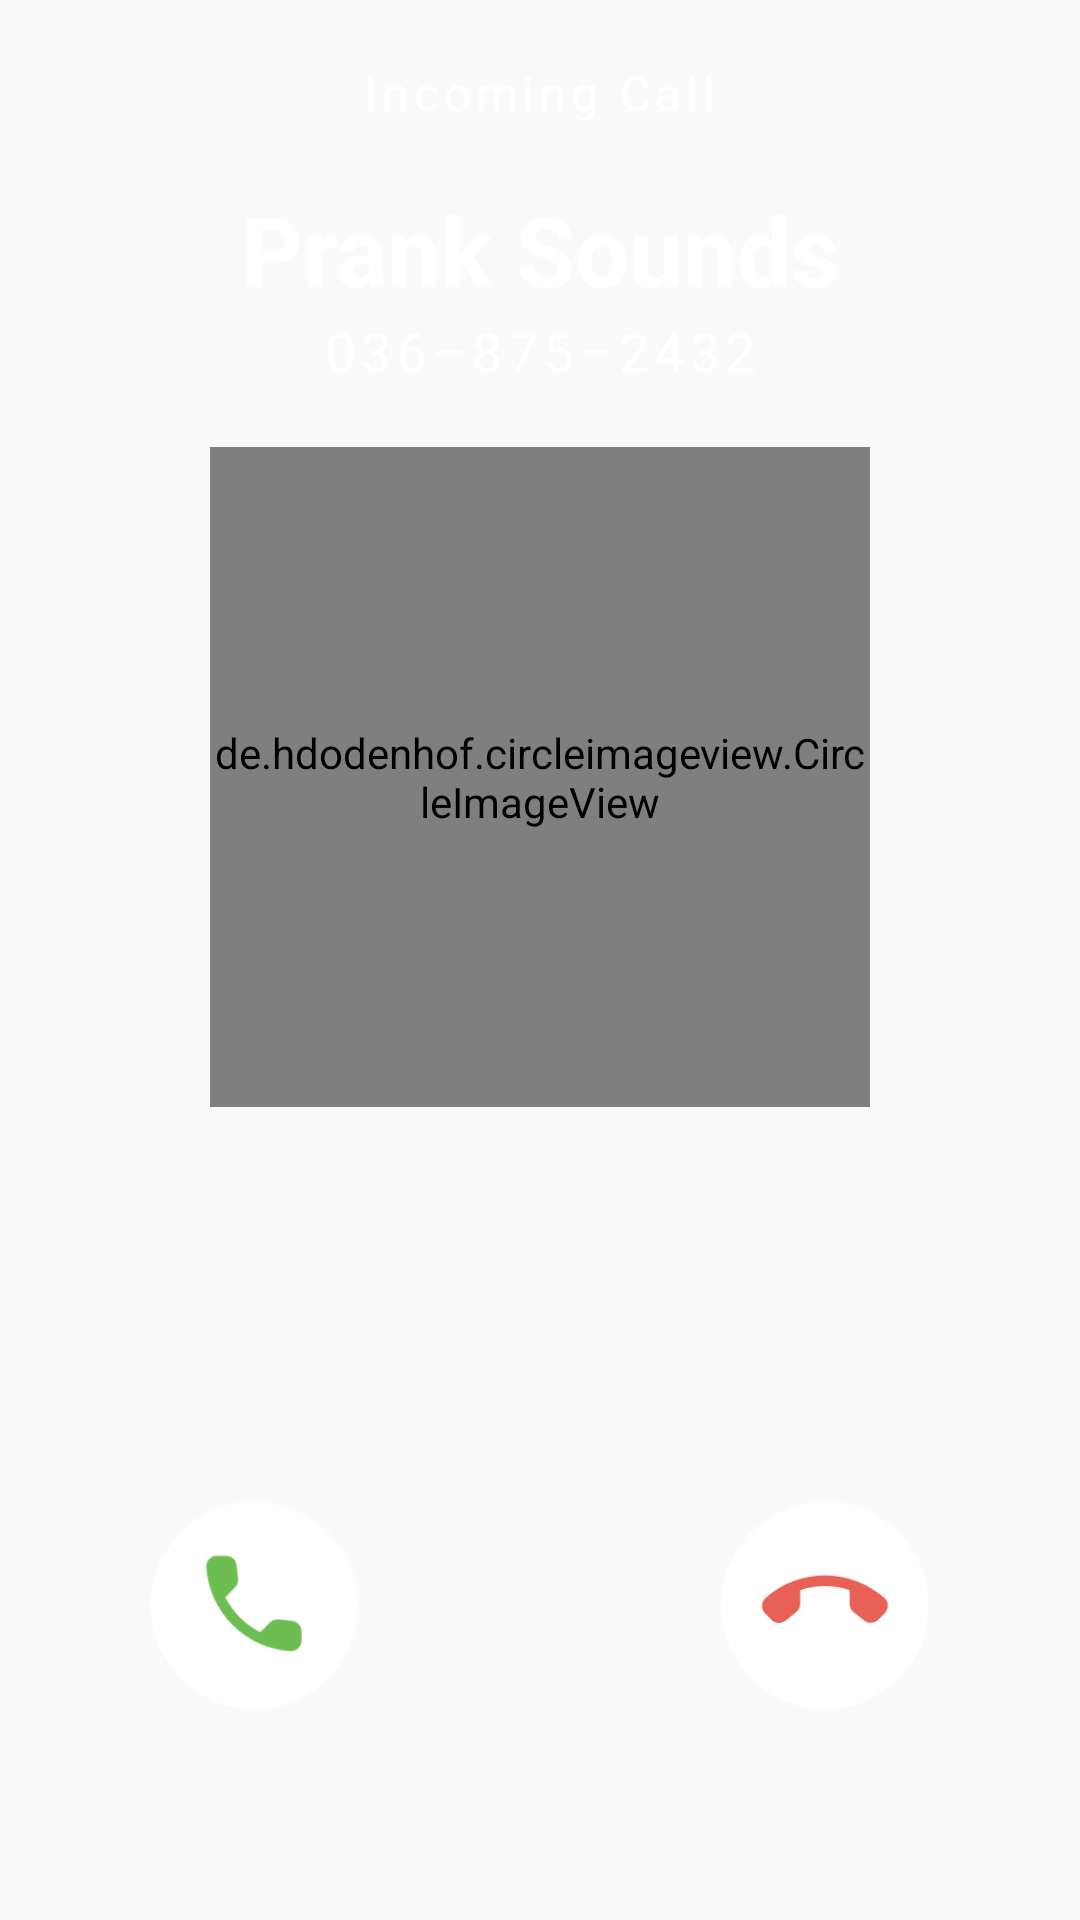

Where icons sit on this 1080 x 1920 app screen, as detection(x1, y1, x2, y2):
answer: detection(206, 1555, 302, 1652)
dismiss: detection(761, 1575, 888, 1623)
